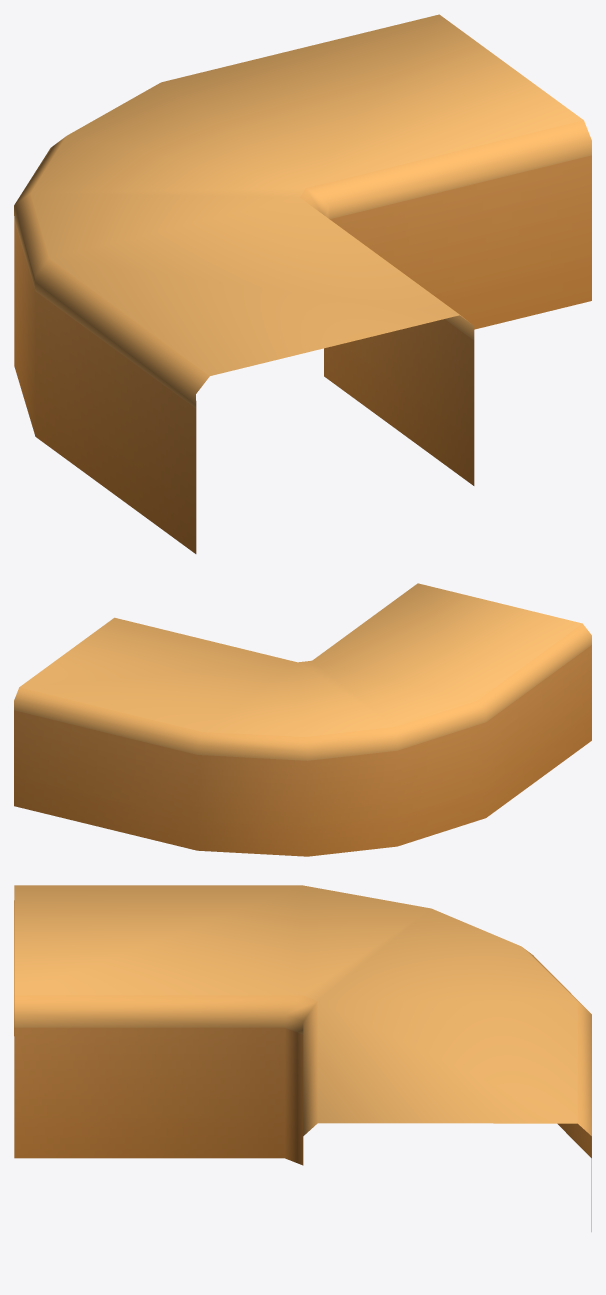
Rendered from L Path 01.FBX.
3 renders of one model, top to bottom at view 1: azimuth 30°, elevation 25°; view 2: azimuth 150°, elevation 25°; view 3: azimuth 270°, elevation 25°, orthographic. The views are drawn at different scales.
Parts seen in each view (by area): view 1: L Path 01; view 2: L Path 01; view 3: L Path 01.
Boxes of the visible parts, x1,y1,x2,y2 form: L Path 01: (14,14,591,553); L Path 01: (14,583,591,856); L Path 01: (14,885,591,1231).
Size of the model in its own units: 1000 by 300 by 1001.
Materials: 1 (1 with a texture image).
